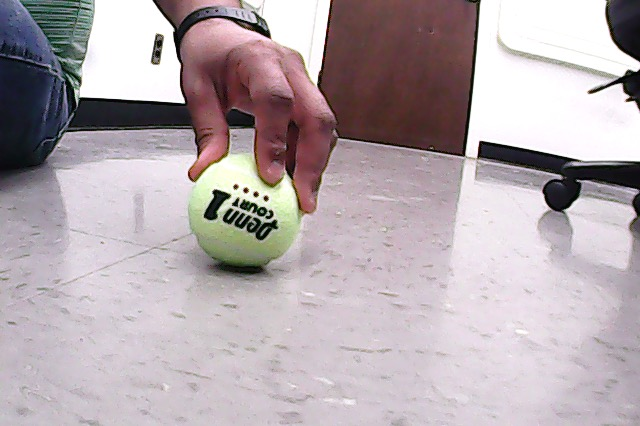ball: (187, 151, 304, 271)
